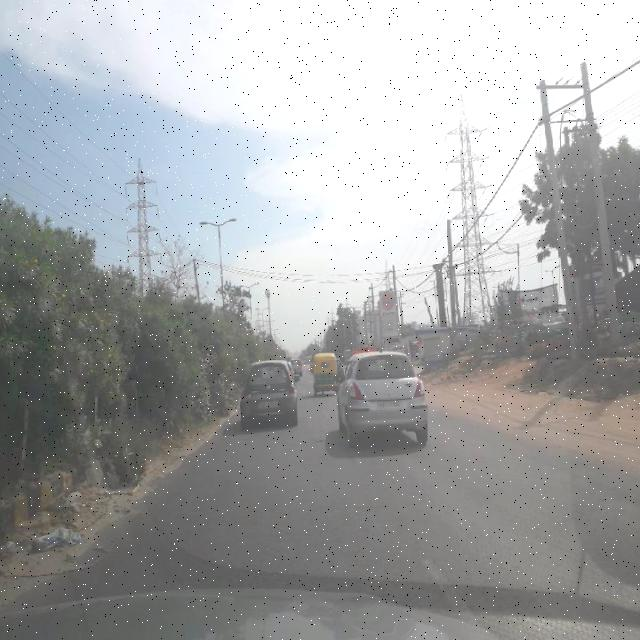D20: (110, 450, 628, 620)
D44: (419, 543, 480, 617)
